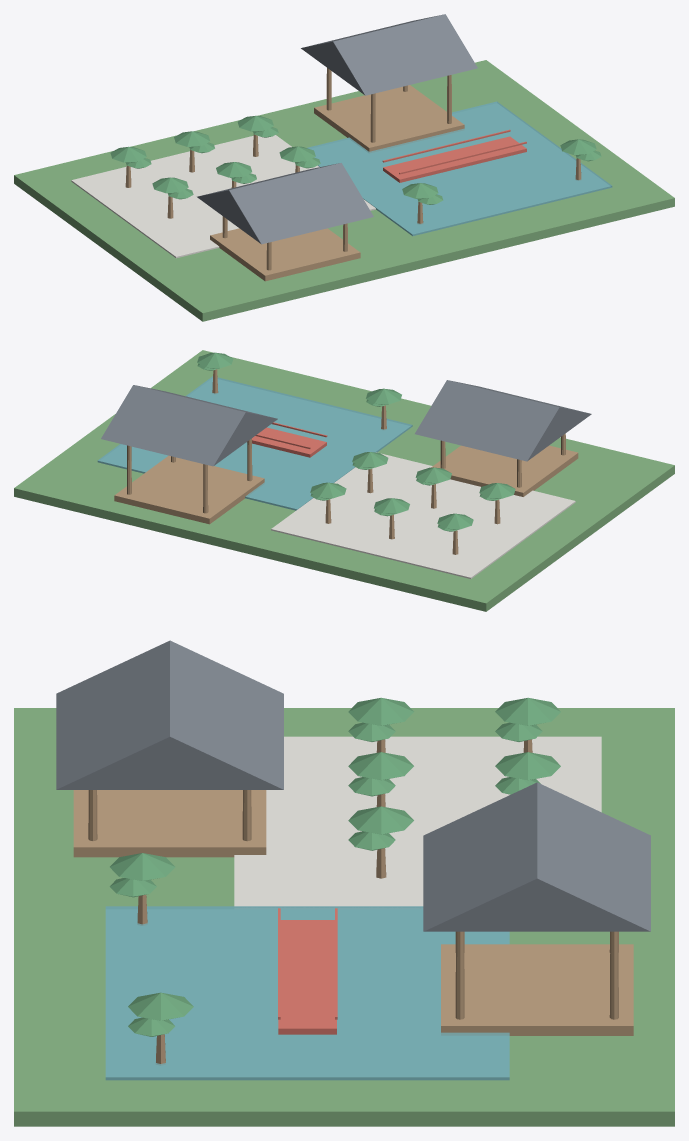
File: lm_54_thung_lung_vang_pine_bonsai_zen_garden_and_pavilion_kit.glb
3 renders of one model, top to bottom at view 1: azimuth 30°, elevation 25°; view 2: azimuth 150°, elevation 25°; view 3: azimuth 270°, elevation 25°, orthographic. The views are drawn at different scales.
Visible parts, largest first — view 1: lm_54_thung_lung_vang_pine_bonsai_zen_garden_and_pavilion_ki; view 2: lm_54_thung_lung_vang_pine_bonsai_zen_garden_and_pavilion_ki; view 3: lm_54_thung_lung_vang_pine_bonsai_zen_garden_and_pavilion_ki.
Boxes of the visible parts, bbox=[...] form: lm_54_thung_lung_vang_pine_bonsai_zen_garden_and_pavilion_ki: bbox=[14, 14, 674, 321]; lm_54_thung_lung_vang_pine_bonsai_zen_garden_and_pavilion_ki: bbox=[14, 350, 674, 611]; lm_54_thung_lung_vang_pine_bonsai_zen_garden_and_pavilion_ki: bbox=[14, 640, 674, 1126].
Bounding box in the file's own units: 52 × 10.8 × 36.
